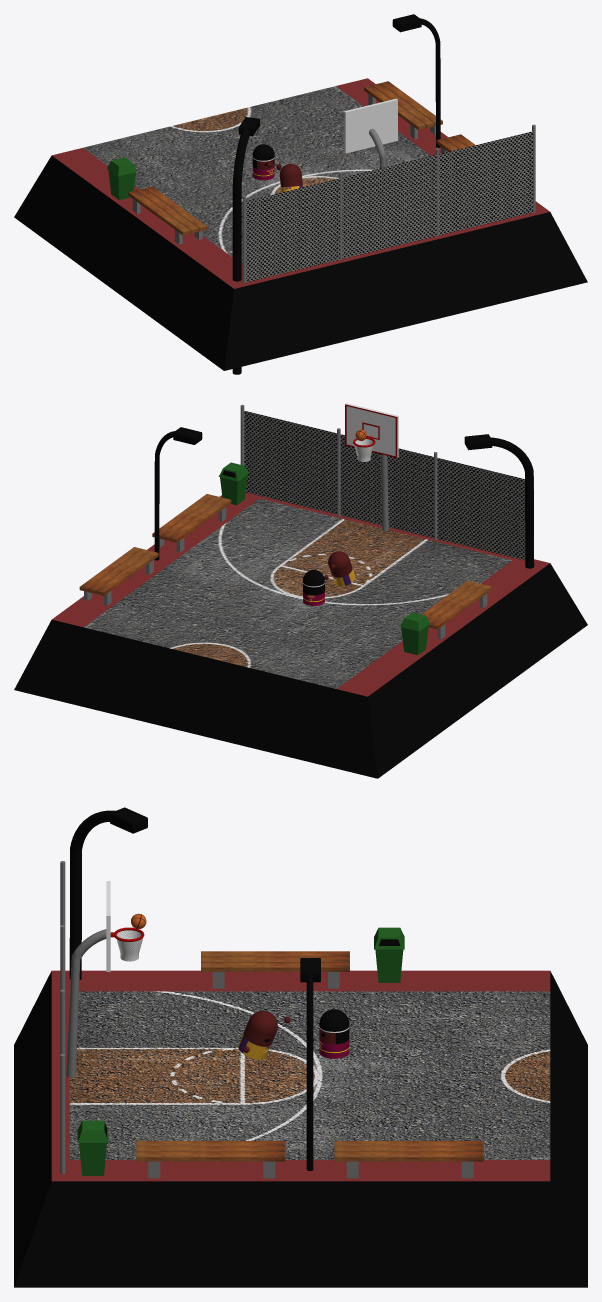
Rendered from Testing.fbx.
The picture shows the model from 3 angles, top to bottom: view 1: azimuth 30°, elevation 25°; view 2: azimuth 150°, elevation 25°; view 3: azimuth 270°, elevation 25°; orthographic projection. The views are drawn at different scales.
Visible parts, largest first — view 1: Base, pPlane3, pPlane4, pPlane2, Board, Sits3, pCylinder6, Sits, Lehron_James, pCylinder5, pCube21, Hobe_Bryant; view 2: Base, pPlane2, pPlane4, pPlane3, Board, Sits, Sits1, Sits3, pCylinder6, pCylinder5, Lehron_James, Hobe_Bryant (+3 smaller); view 3: Base, Sits1, Sits, Sits3, pCylinder6, Pillar, pCylinder5, Lehron_James, Hobe_Bryant, pCube21, pCube17, pCylinder4 (+4 smaller).
Part boxes in pixels (x1=…): Base: x1=14, y1=78, x2=587, y2=370; pPlane3: x1=342, y1=155, x2=436, y2=258; pPlane4: x1=246, y1=178, x2=339, y2=282; pPlane2: x1=439, y1=131, x2=532, y2=235; Board: x1=344, y1=98, x2=397, y2=153; Sits3: x1=128, y1=186, x2=207, y2=235; pCylinder6: x1=232, y1=128, x2=250, y2=374; Sits: x1=364, y1=81, x2=442, y2=130; Lehron_James: x1=252, y1=144, x2=274, y2=180; pCylinder5: x1=420, y1=18, x2=440, y2=147; pCube21: x1=108, y1=169, x2=135, y2=200; Hobe_Bryant: x1=279, y1=164, x2=302, y2=192; Base: x1=14, y1=492, x2=587, y2=778; pPlane2: x1=244, y1=411, x2=336, y2=514; pPlane4: x1=437, y1=458, x2=525, y2=560; pPlane3: x1=340, y1=434, x2=433, y2=537; Board: x1=345, y1=403, x2=398, y2=457; Sits: x1=79, y1=547, x2=158, y2=595; Sits1: x1=152, y1=494, x2=231, y2=542; Sits3: x1=421, y1=580, x2=492, y2=629; pCylinder6: x1=490, y1=437, x2=534, y2=568; pCylinder5: x1=154, y1=431, x2=174, y2=560; Lehron_James: x1=303, y1=570, x2=324, y2=605; Hobe_Bryant: x1=328, y1=551, x2=355, y2=586; Base: x1=14, y1=970, x2=587, y2=1287; Sits1: x1=136, y1=1141, x2=285, y2=1161; Sits: x1=334, y1=1141, x2=483, y2=1161; Sits3: x1=201, y1=951, x2=349, y2=971; pCylinder6: x1=69, y1=810, x2=115, y2=979; Pillar: x1=66, y1=929, x2=106, y2=1077; pCylinder5: x1=306, y1=974, x2=313, y2=1170; Lehron_James: x1=319, y1=1009, x2=349, y2=1058; Hobe_Bryant: x1=238, y1=1010, x2=277, y2=1059; pCube21: x1=375, y1=949, x2=403, y2=982; pCube17: x1=79, y1=1143, x2=106, y2=1175; pCylinder4: x1=60, y1=1054, x2=65, y2=1173.
Size of the model in its own units: 11.51 by 6.89 by 11.51.
22 materials, 10 textured.
